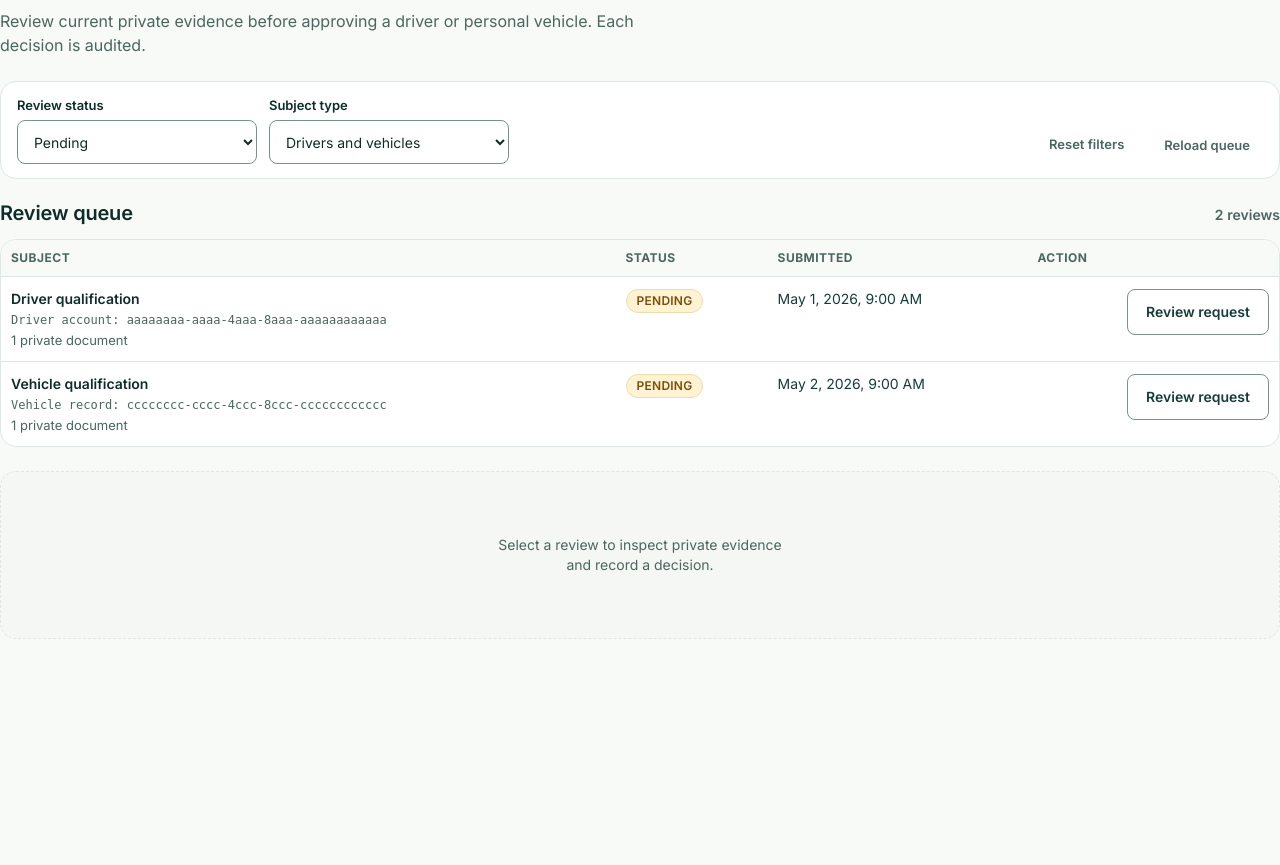
it: stops a stale decision, keeps the reason and sends the reviewed version
Click the button with aria-label "Review driver request 1".
click(1198, 312)  # box [1127,289,1269,335]
(page scrolled)
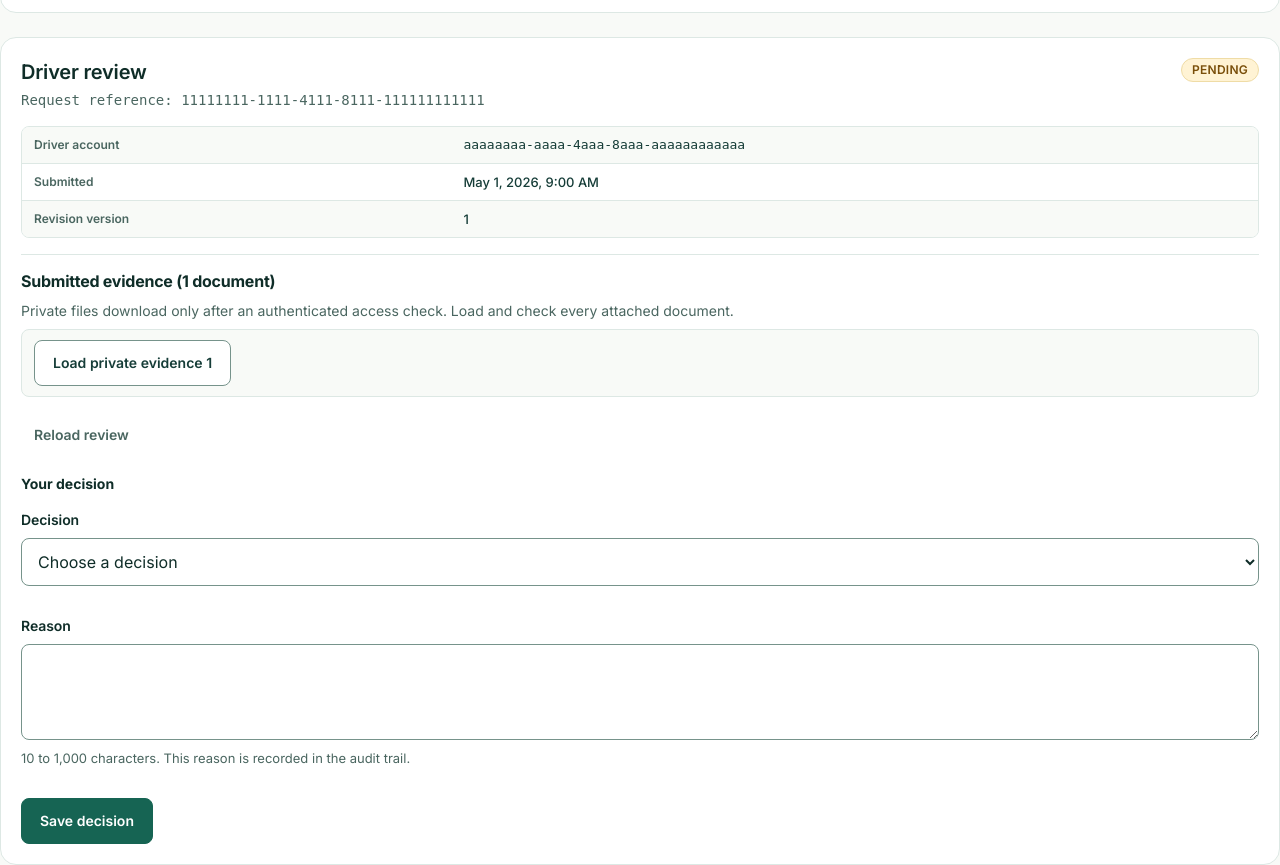
Expected: the form named "Review decision" is shown, [21,473,1259,844]
Select "Approve" in the dropdown labelled "Decision" at {"x": 640, "y": 562}, box [21,538,1259,586]
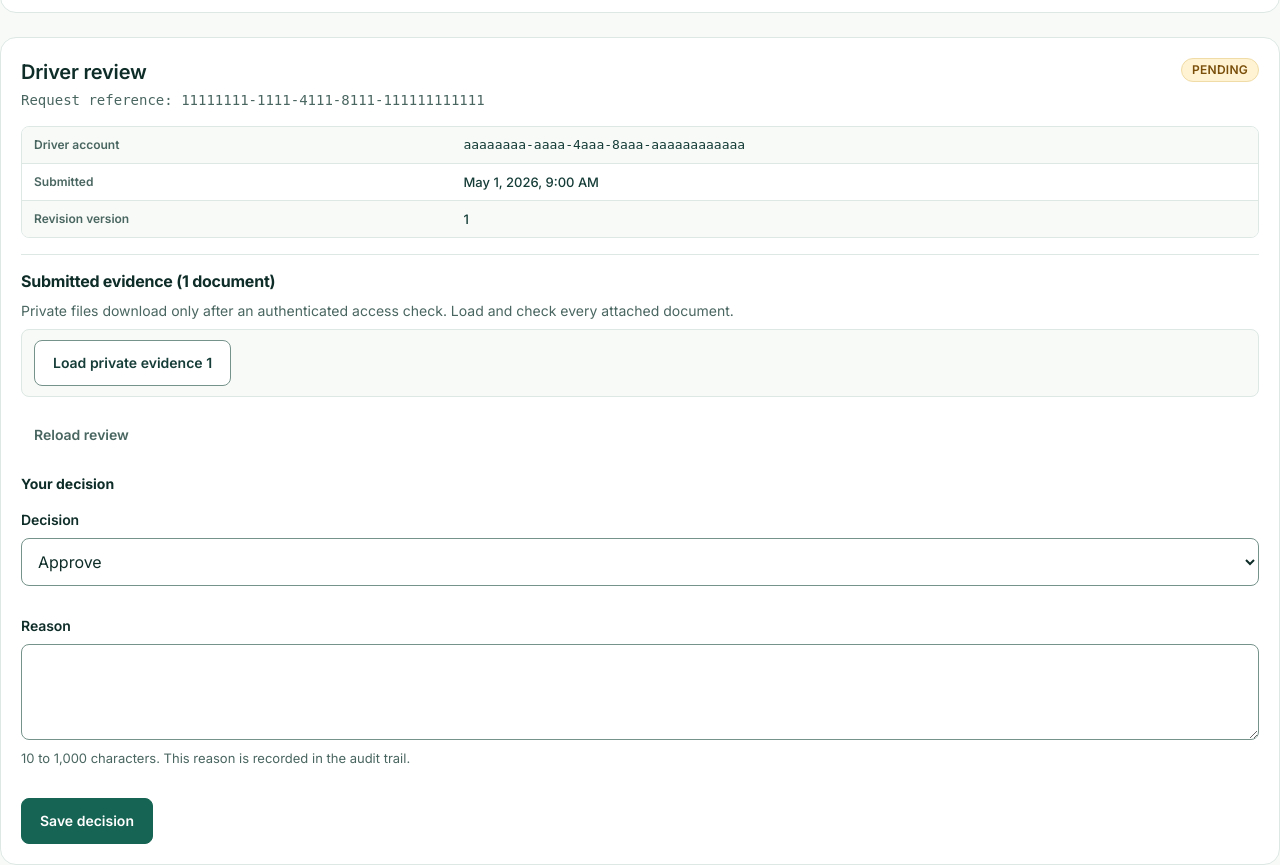
Type "Documents and expiry dates verified in the current revision" into the text box labelled "Reason".
click(640, 692); type("Documents and expiry dates verified in the current revision")  # box [21,644,1259,740]
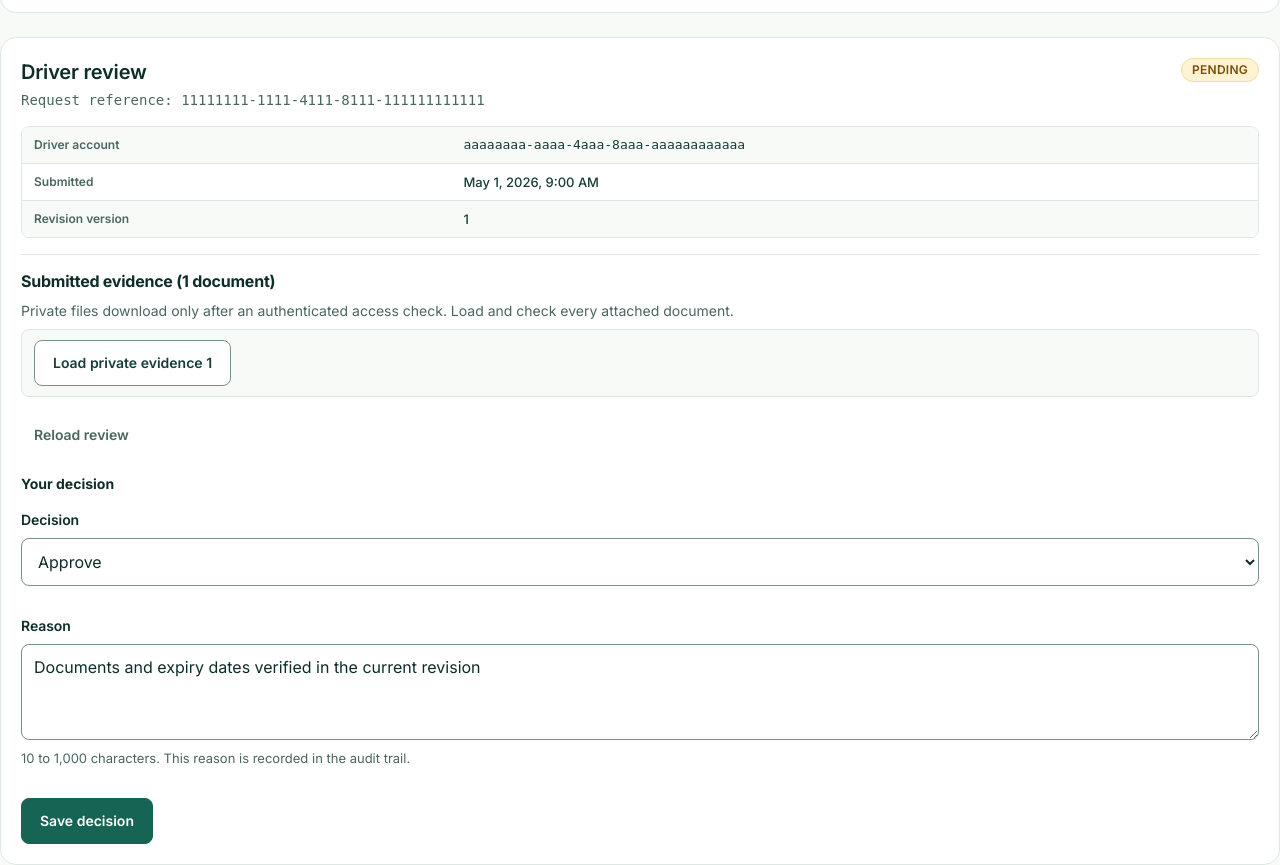
Submit the form named "Review decision", box [21,473,1259,844]
(page scrolled)
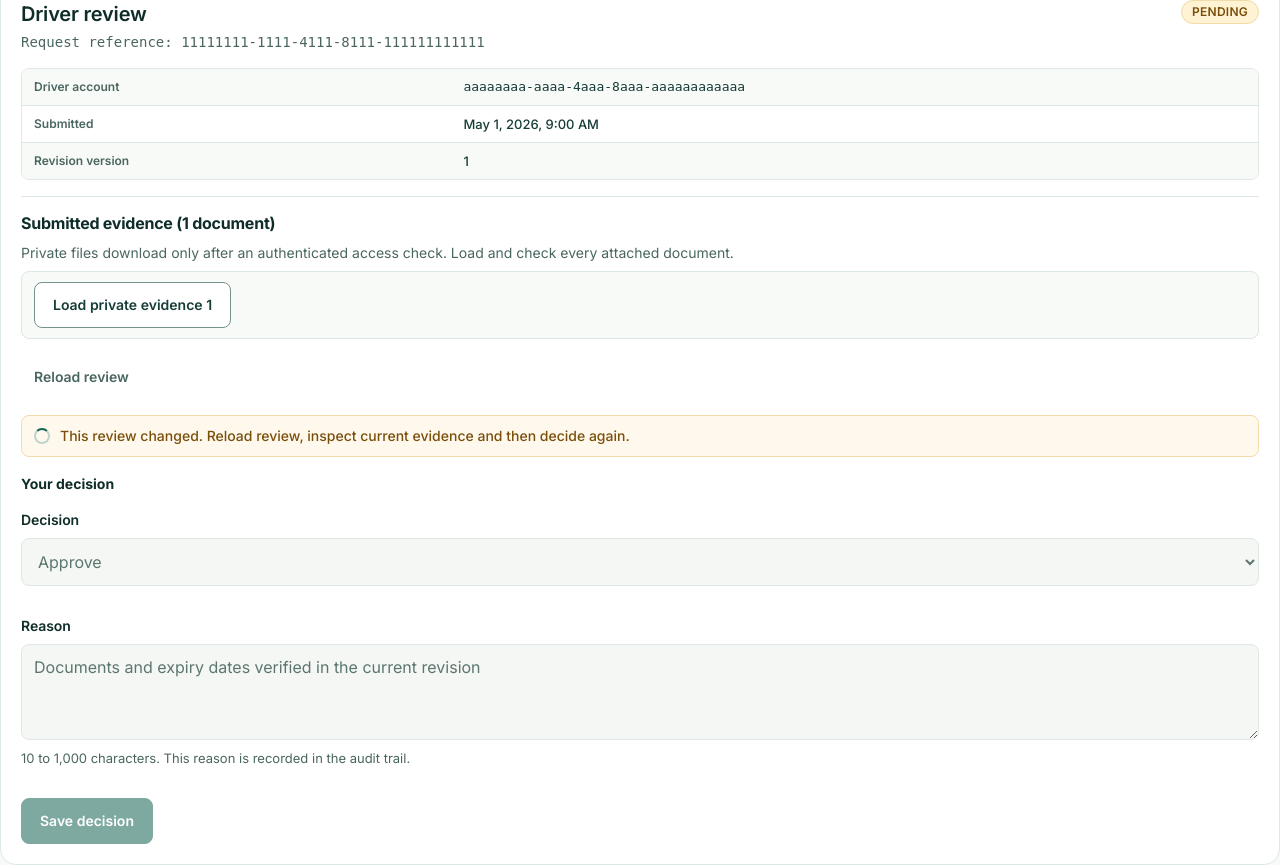
Expected: the text "This review changed. Reload review" is shown, [60,427,630,444]
Expected: the element labelled "decision" is disabled, [21,473,1259,844]
